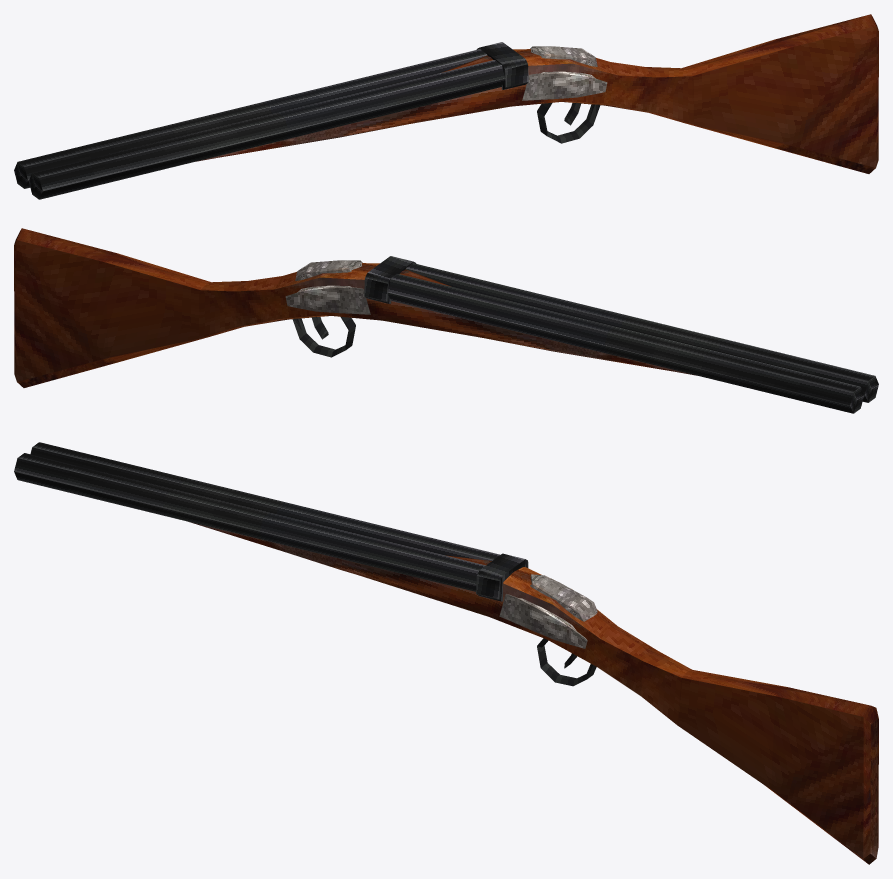
Rendered from escopeta.gltf.
3 renders of one model, top to bottom at view 1: azimuth 30°, elevation 25°; view 2: azimuth 150°, elevation 25°; view 3: azimuth 330°, elevation 25°, orthographic.
Parts seen in each view (by area): view 1: culata; view 2: culata; view 3: culata.
Boxes of the visible parts, bbox=[...] form: culata: bbox=[14, 14, 878, 199]; culata: bbox=[14, 228, 878, 413]; culata: bbox=[14, 442, 878, 864].
Size of the model in its own units: 3.28 by 0.7778 by 0.1988.
1 material, 1 textured.
